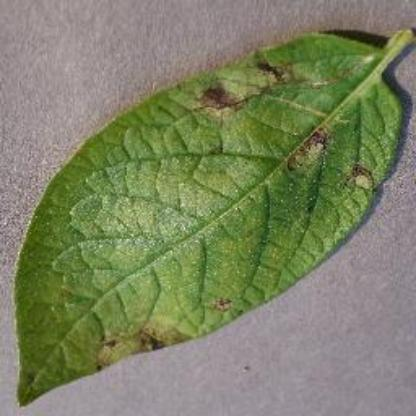Late-Blight: (7, 12, 415, 410)
